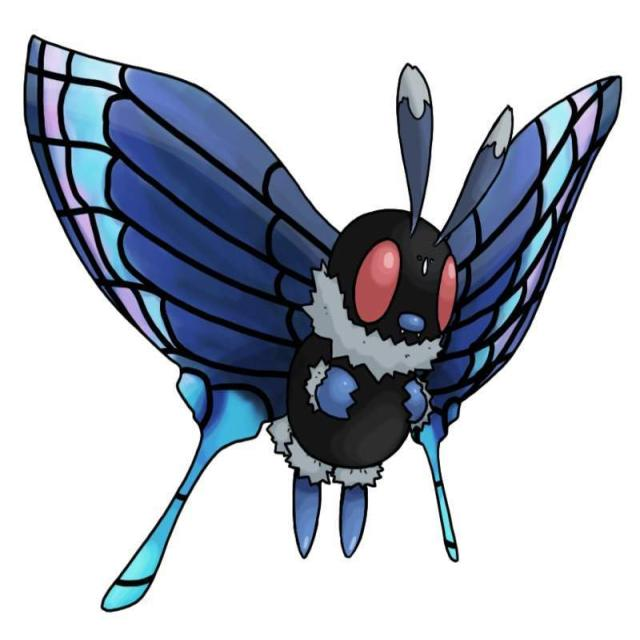Butterfree: (98, 88, 547, 555)
